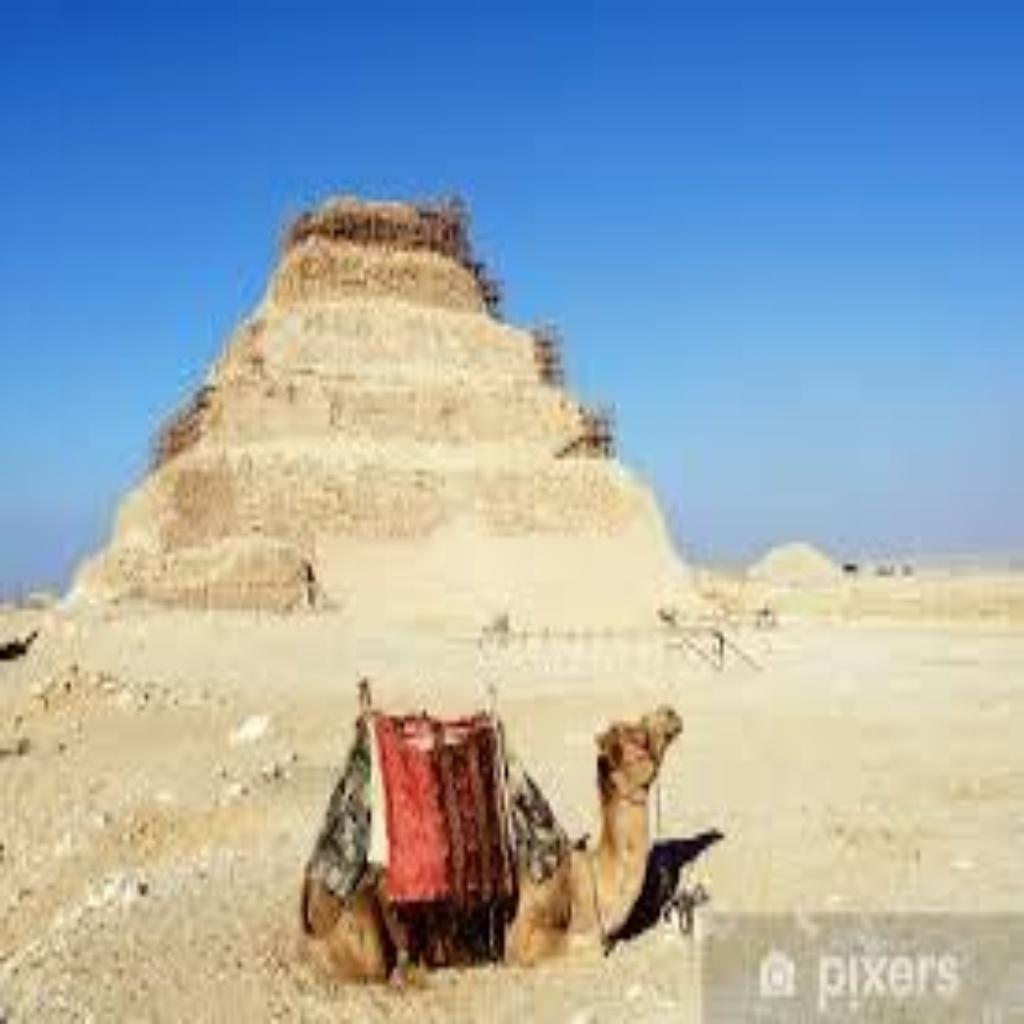Pyramid of Djoser: (63, 179, 705, 632)
